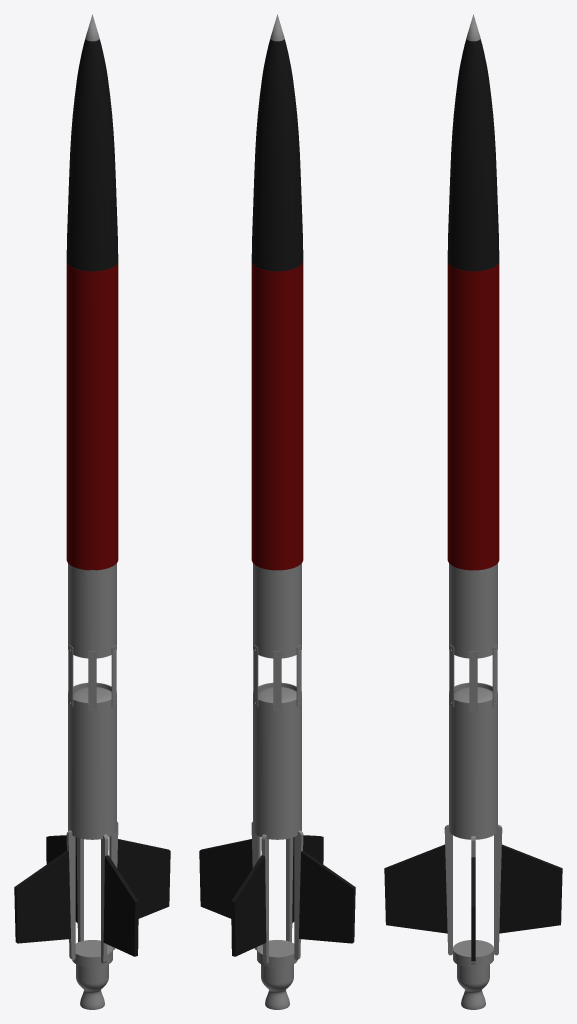
The model's file is rocket-animation.glb.
The picture shows the model from 3 angles, left to right: view 1: azimuth 30°, elevation 25°; view 2: azimuth 150°, elevation 25°; view 3: azimuth 270°, elevation 25°; orthographic projection.
Parts seen in each view (by area): view 1: rocket-model3; view 2: rocket-model3; view 3: rocket-model3.
Boxes of the visible parts, box(x1,y1,x2,y2) form: rocket-model3: box(14, 14, 170, 1009); rocket-model3: box(199, 14, 355, 1009); rocket-model3: box(384, 14, 562, 1009).
Size of the model in its own units: 0.551 by 3.38 by 0.551.
